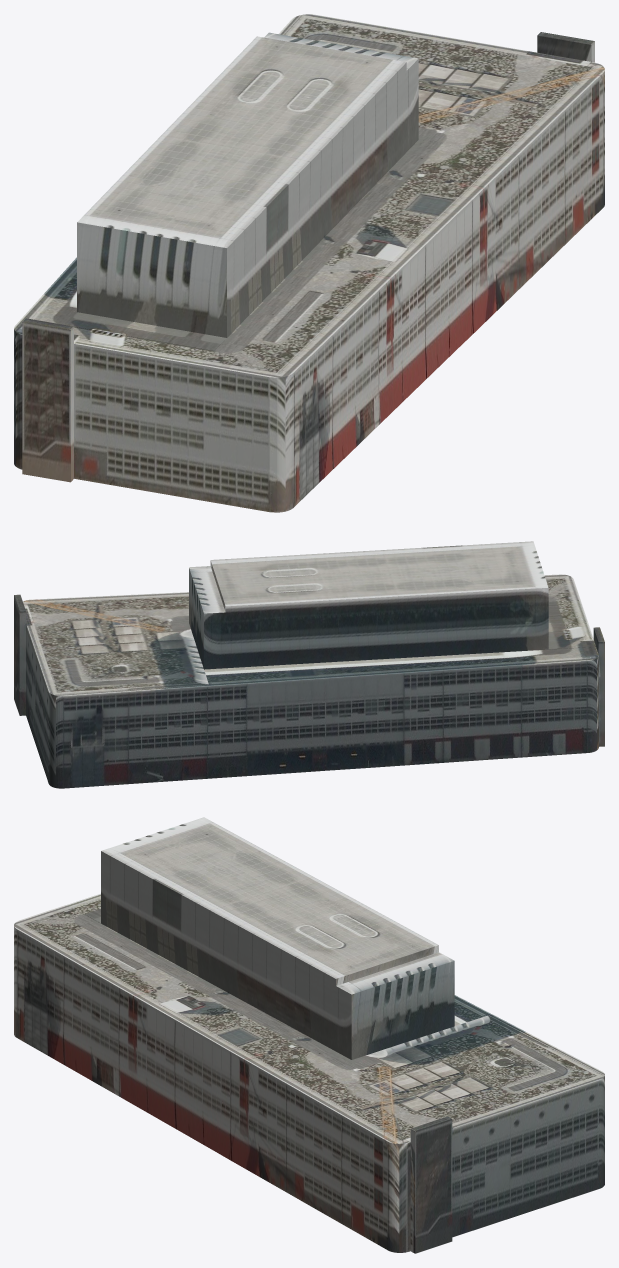
File: {946F8C2A-CE8E-4D4F-9AE5-0F8599917ACA}.gltf
3 renders of one model, top to bottom at view 1: azimuth 30°, elevation 25°; view 2: azimuth 150°, elevation 25°; view 3: azimuth 270°, elevation 25°, orthographic. The views are drawn at different scales.
Visible parts, largest first — view 1: Z_UP; view 2: Z_UP; view 3: Z_UP.
Boxes of the visible parts, <box> form: Z_UP: <box>14,14,604,512</box>; Z_UP: <box>14,541,604,788</box>; Z_UP: <box>14,817,604,1253</box>.
Size of the model in its own units: 107 by 32.21 by 95.12.
Materials: 16 (15 with a texture image).
